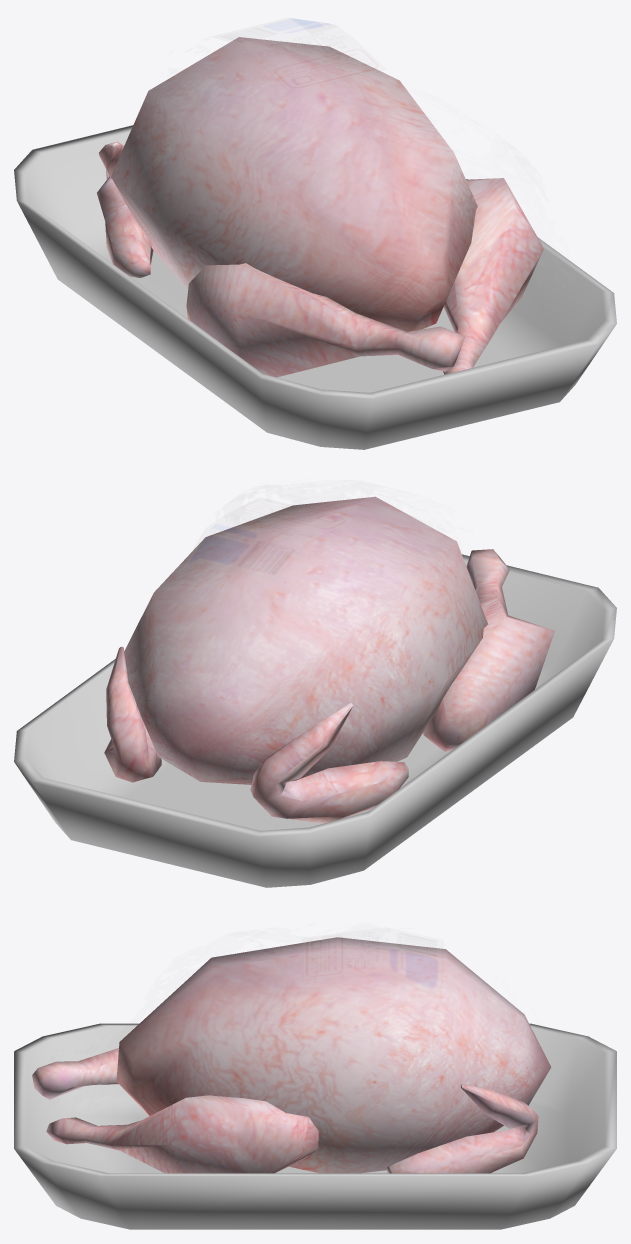
File: SMGP_MOD_Chicken.fbx
3 renders of one model, top to bottom at view 1: azimuth 30°, elevation 25°; view 2: azimuth 150°, elevation 25°; view 3: azimuth 270°, elevation 25°, orthographic. The views are drawn at different scales.
Parts seen in each view (by area): view 1: UAS_SMHP_chicken_001; view 2: UAS_SMHP_chicken_001; view 3: UAS_SMHP_chicken_001.
Boxes of the visible parts, x1,y1,x2,y2 form: UAS_SMHP_chicken_001: (14,18,616,449); UAS_SMHP_chicken_001: (14,496,616,887); UAS_SMHP_chicken_001: (14,937,616,1229).
Bounding box in the file's own units: 0.4954 × 0.3363 × 0.8272.
